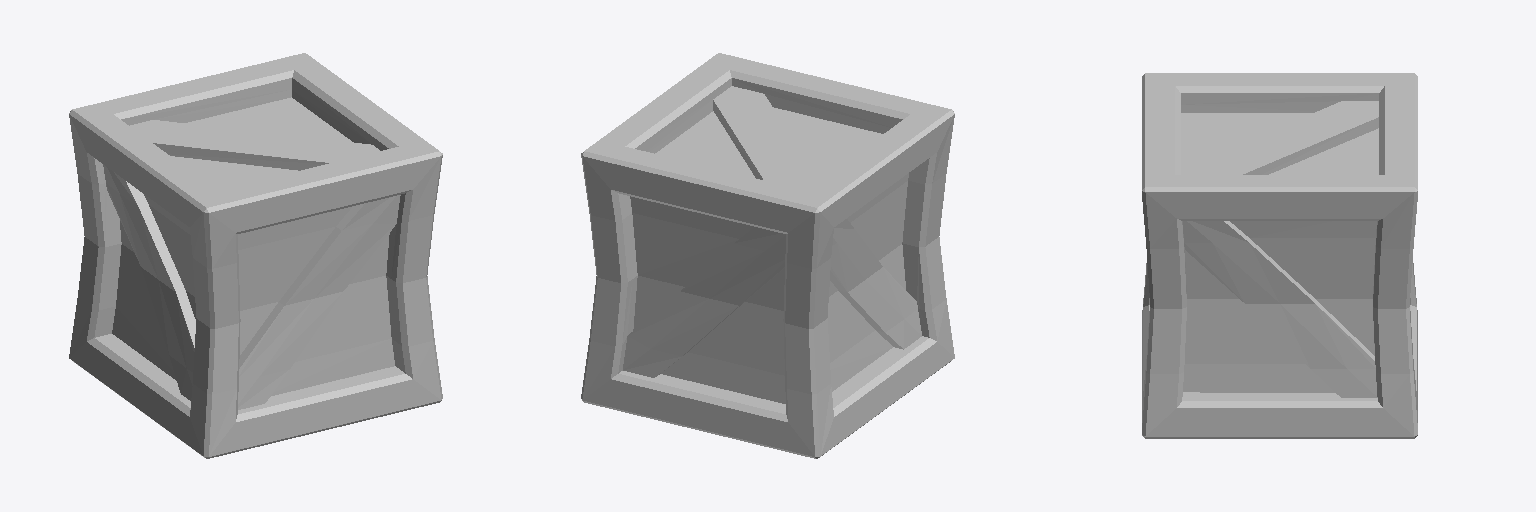
The model's file is crate_one_lp_2.obj.
The picture shows the model from 3 angles: view 1: azimuth 30°, elevation 25°; view 2: azimuth 150°, elevation 25°; view 3: azimuth 270°, elevation 25°; orthographic projection.
Parts seen in each view (by area): view 1: crate_one_lp_2; view 2: crate_one_lp_2; view 3: crate_one_lp_2.
Boxes of the visible parts, x1=… form: crate_one_lp_2: x1=69, y1=53, x2=442, y2=458; crate_one_lp_2: x1=581, y1=53, x2=954, y2=458; crate_one_lp_2: x1=1142, y1=73, x2=1417, y2=438.
Size of the model in its own units: 0.9979 by 1 by 0.9986.